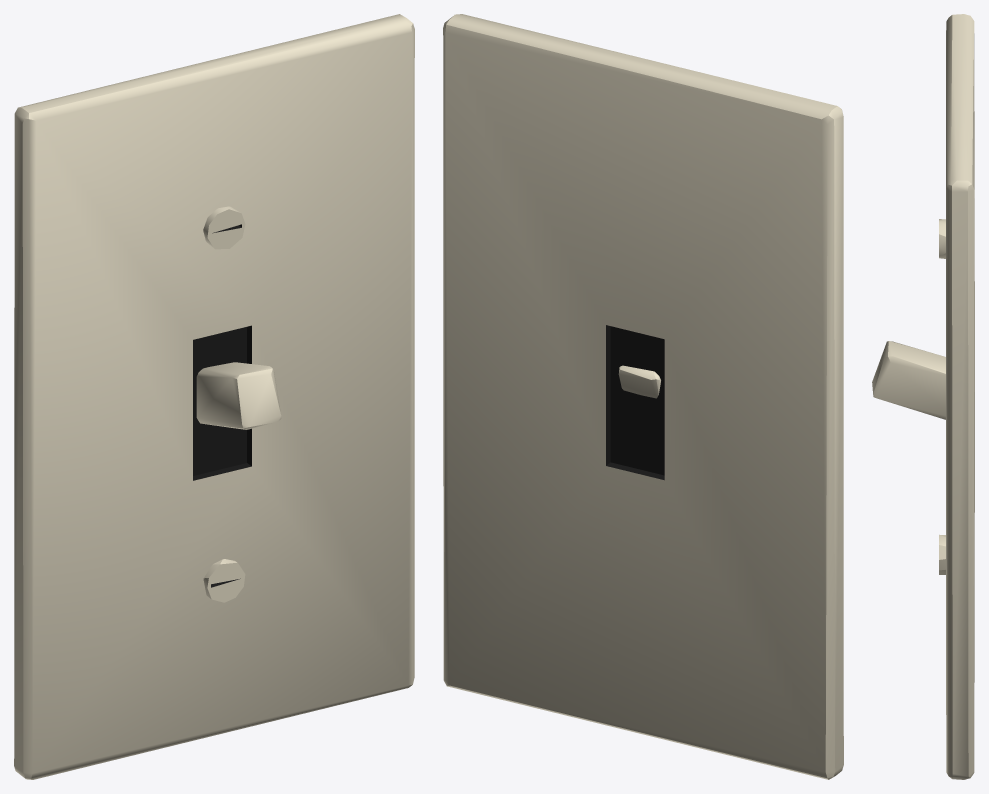
File: switch_plate.glb
3 renders of one model, left to right at view 1: azimuth 30°, elevation 25°; view 2: azimuth 150°, elevation 25°; view 3: azimuth 270°, elevation 25°, orthographic. The views are drawn at different scales.
Parts seen in each view (by area): view 1: Switch; view 2: Switch; view 3: Switch.
Boxes of the visible parts, <box> form: Switch: <box>14,14,414,779</box>; Switch: <box>443,14,843,779</box>; Switch: <box>872,14,974,779</box>.
Size of the model in its own units: 0.0698 by 0.1138 by 0.0177.
